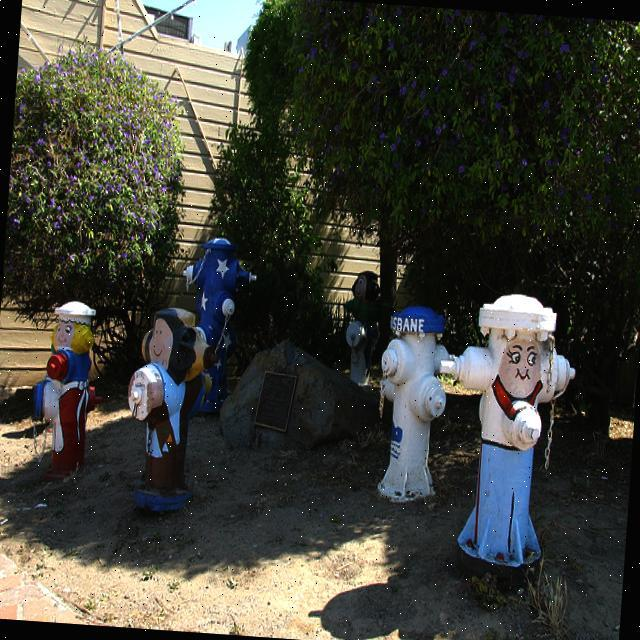fire_hydrant: (428, 288, 582, 568), (117, 298, 223, 520), (369, 304, 458, 505), (172, 235, 260, 414), (26, 297, 107, 483), (336, 266, 384, 384)
